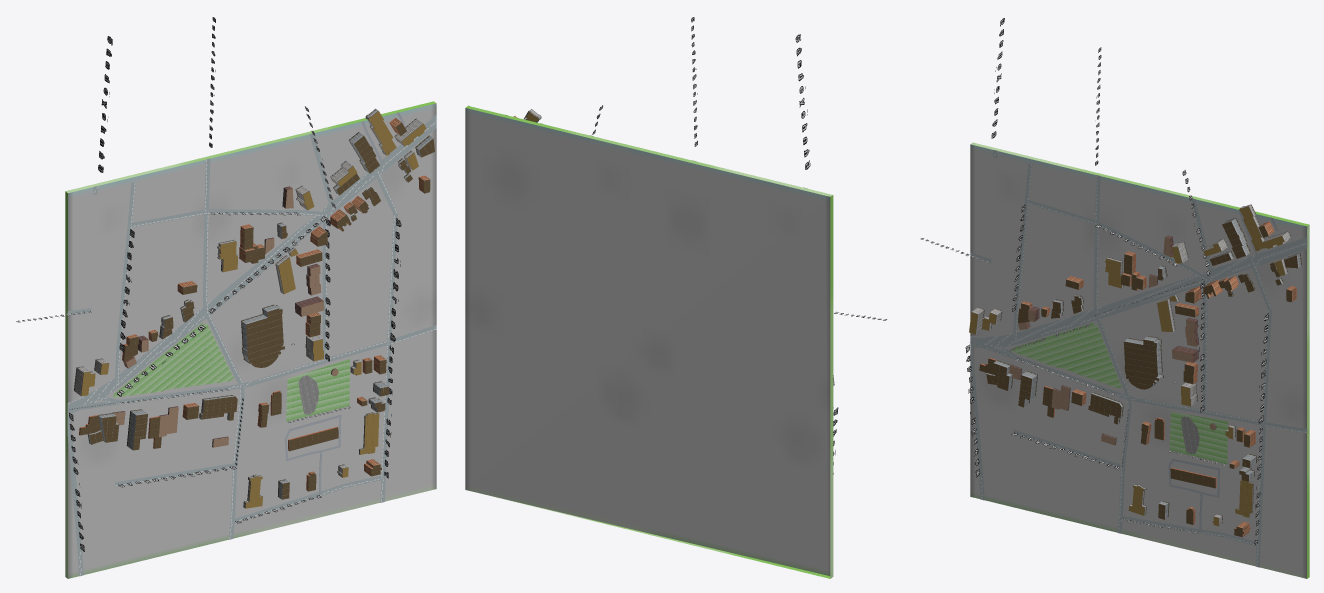
3 views of the same model, side by side, from view 1: azimuth 30°, elevation 25°; view 2: azimuth 150°, elevation 25°; view 3: azimuth 330°, elevation 25° (orthographic). The views are drawn at different scales.
Parts seen in each view (by area): view 1: POLYGON, BUILDING, POLYLINE, FONT; view 2: POLYGON, FONT; view 3: POLYGON, BUILDING, POLYLINE, FONT.
Part boxes in pixels (x1,y1,x2,y2): POLYGON: (65, 101, 436, 578); BUILDING: (74, 108, 434, 508); POLYLINE: (67, 103, 436, 576); FONT: (16, 17, 401, 551); POLYGON: (465, 106, 833, 578); FONT: (592, 17, 886, 474); POLYGON: (970, 142, 1309, 578); BUILDING: (969, 204, 1301, 537); POLYLINE: (970, 150, 1307, 567); FONT: (920, 18, 1268, 545).
Size of the model in its own units: 700 by 852 by 29.
4 materials, 4 textured.
